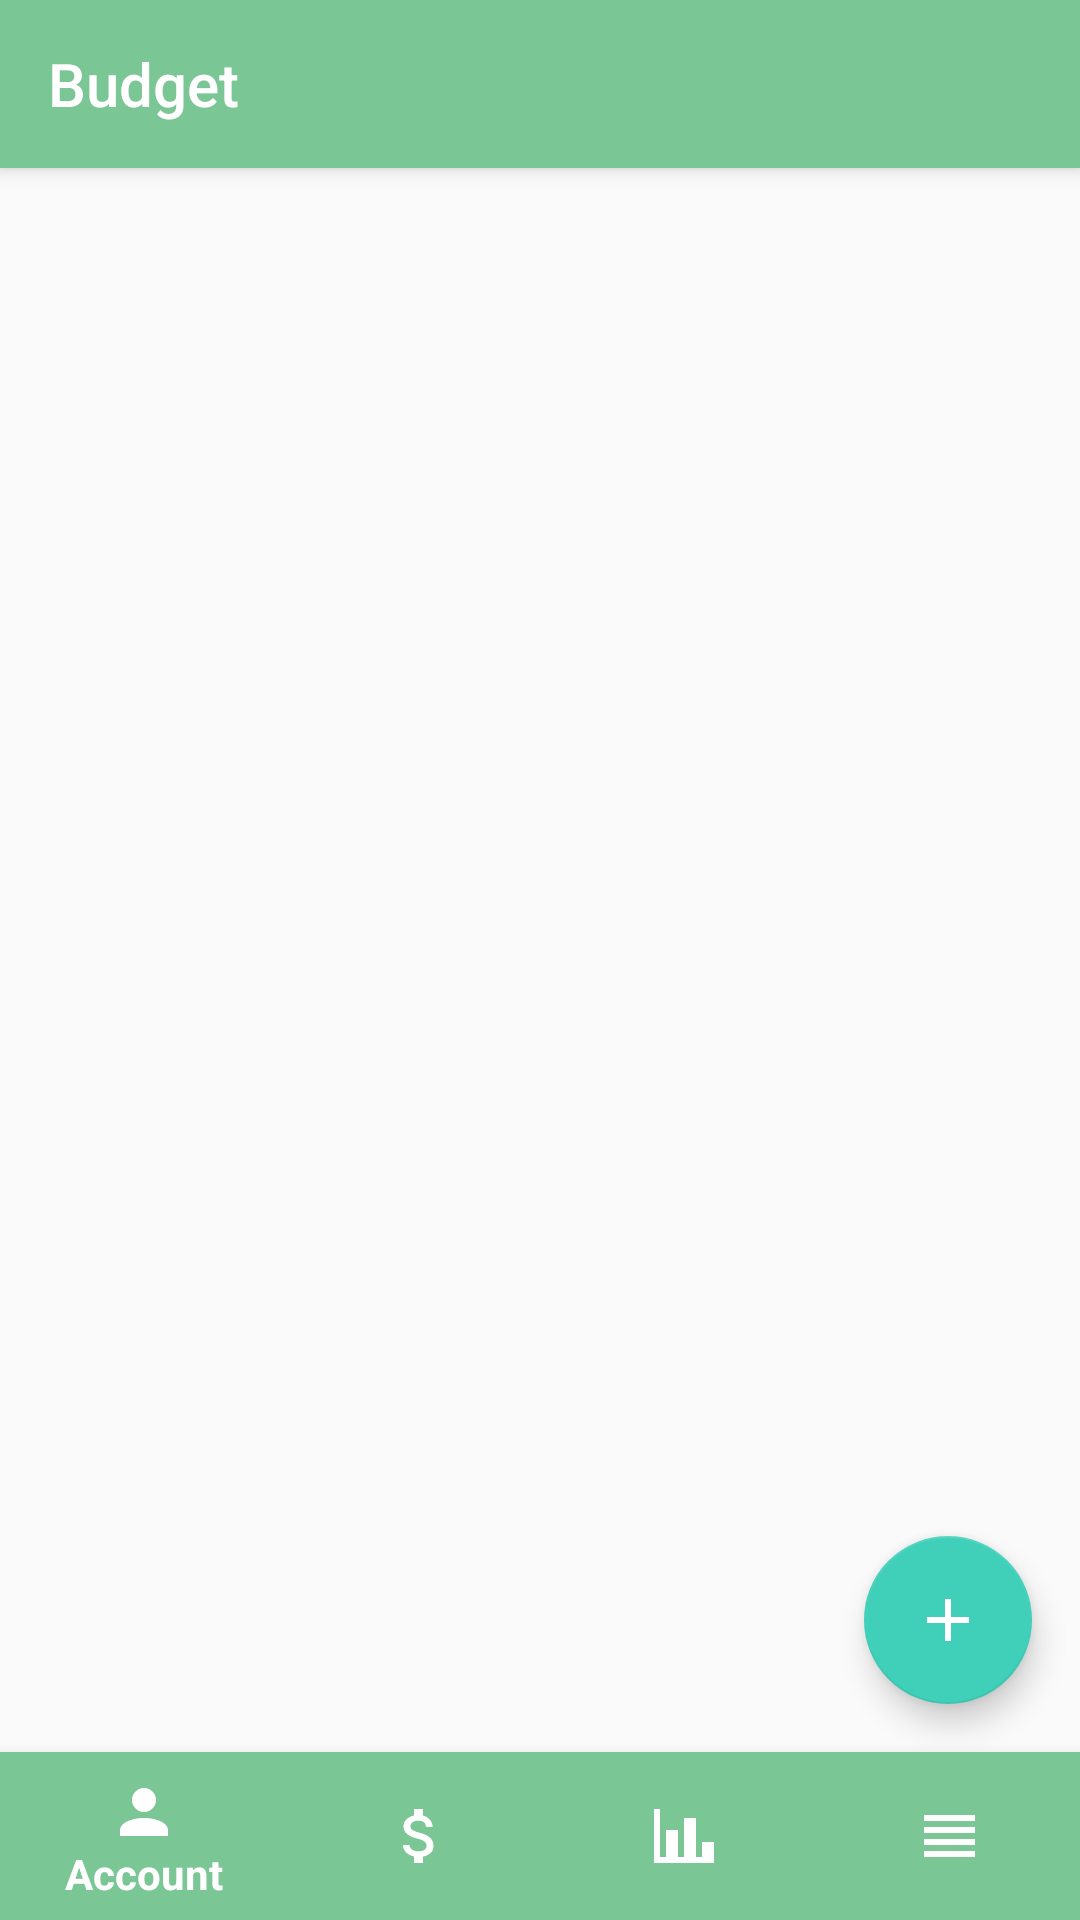

Named icons in this screenshot (1080*1920) and their centers, [x,y]:
plus: [948,1620]
